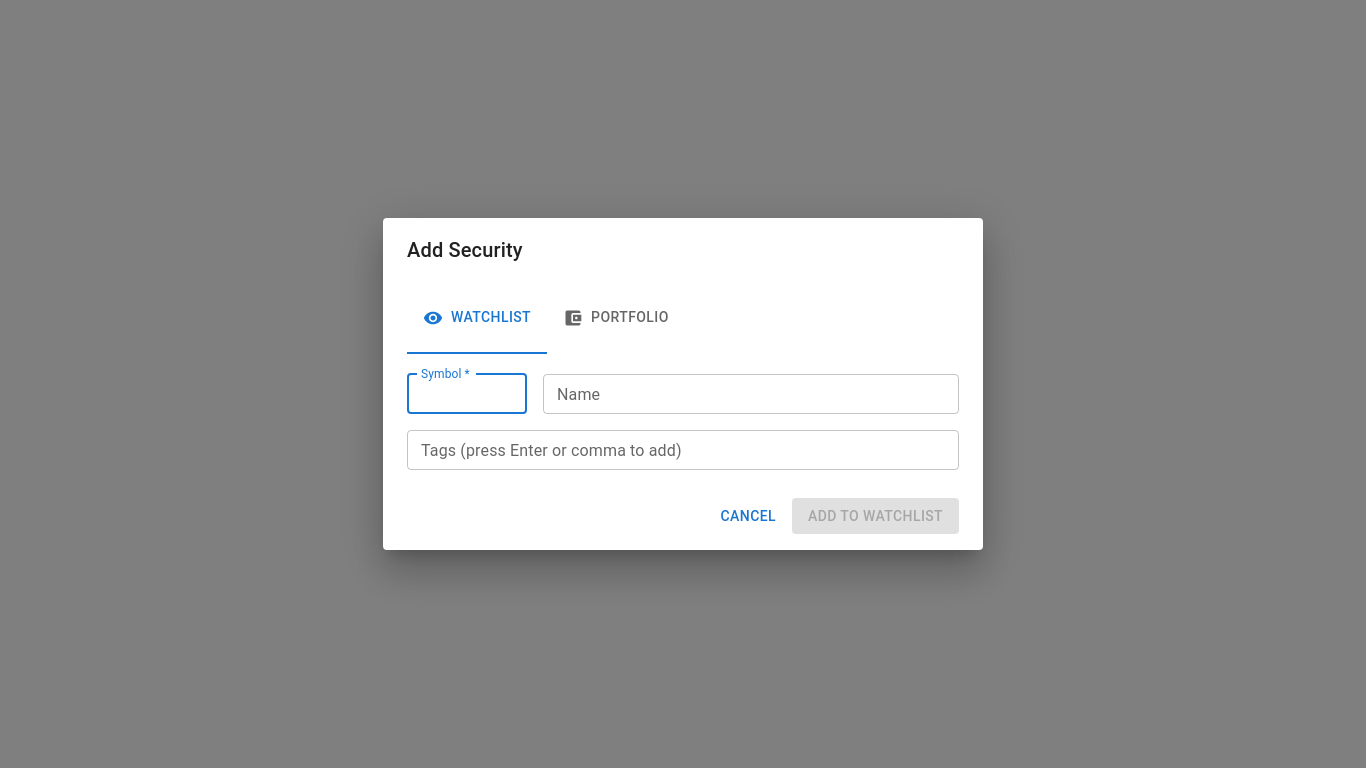
Test: AddSecurityDialog › adds tag chips on Enter
In the field labelled "Tags (press Enter or comma to add)": [683, 450] box [407,430,959,470], type "chips"
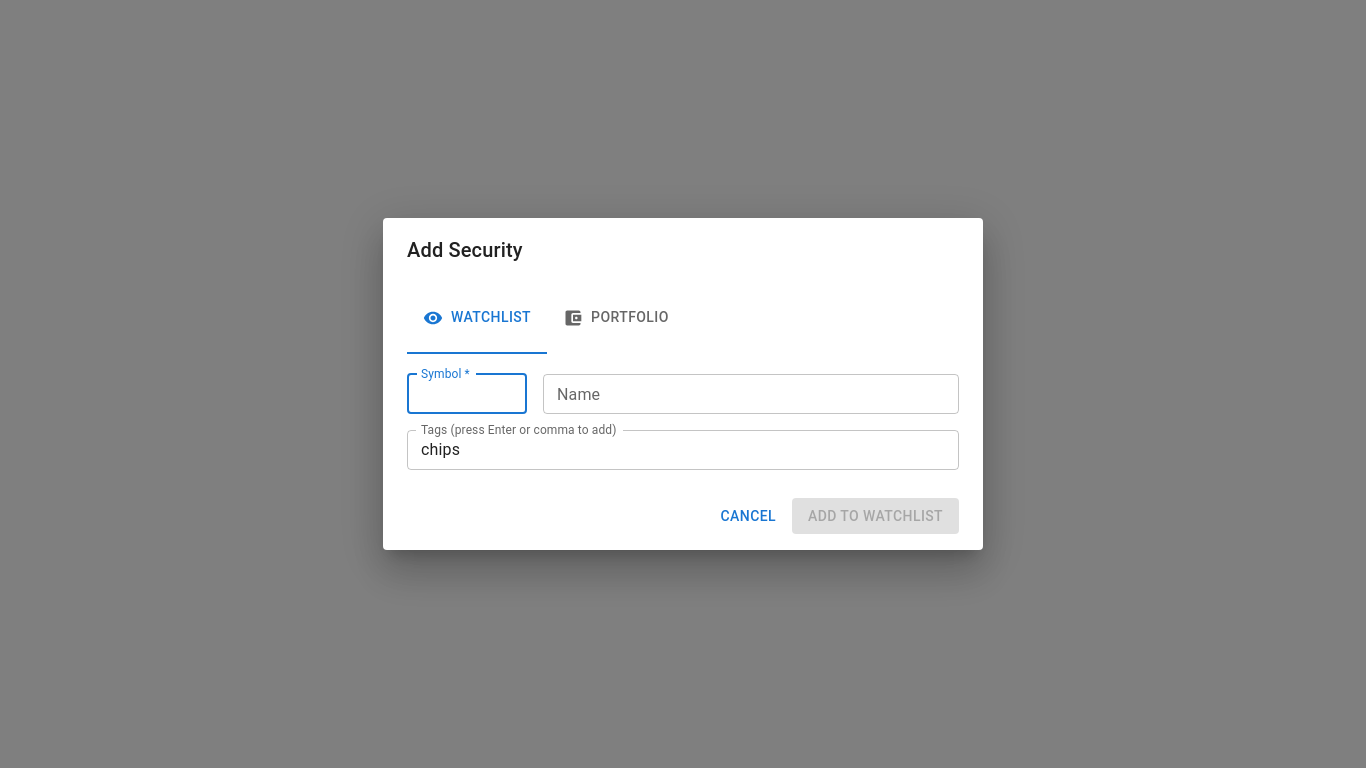
Press Enter in the field labelled "Tags (press Enter or comma to add)", box [407,430,959,470]
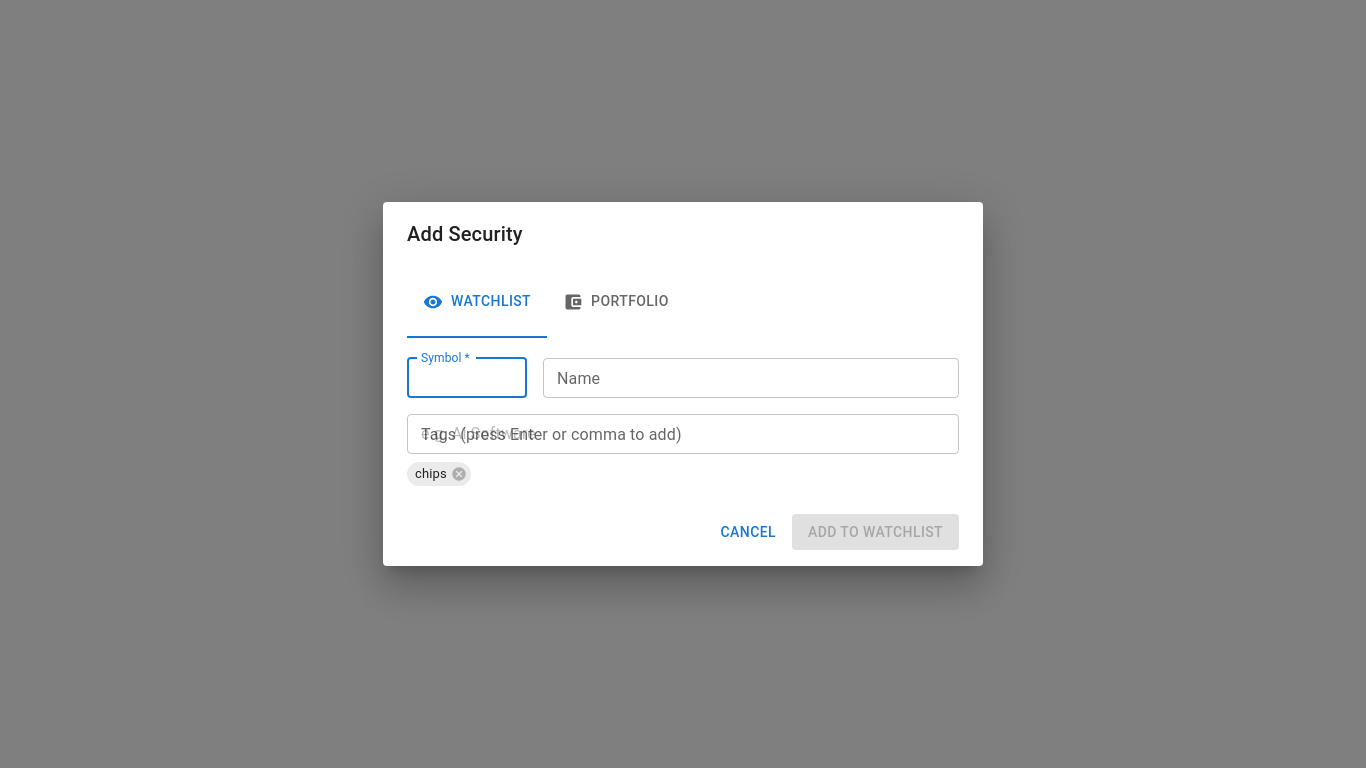
Result: the text "chips" is shown at [415,466,447,481]
